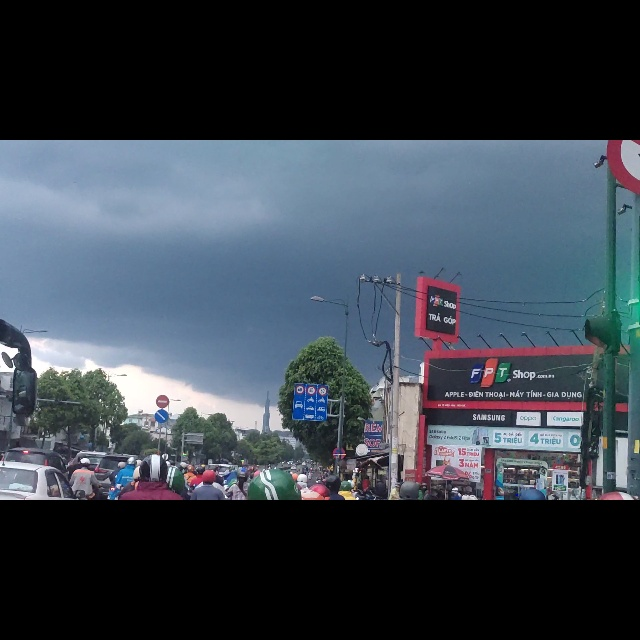bien_hieu_lenh: (293, 431, 328, 500), (155, 478, 169, 503), (156, 452, 169, 477)
